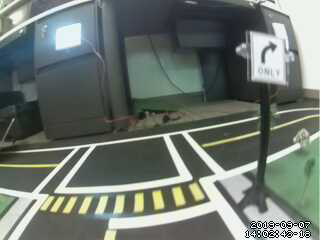Right_only_sign: (251, 33, 291, 86)
